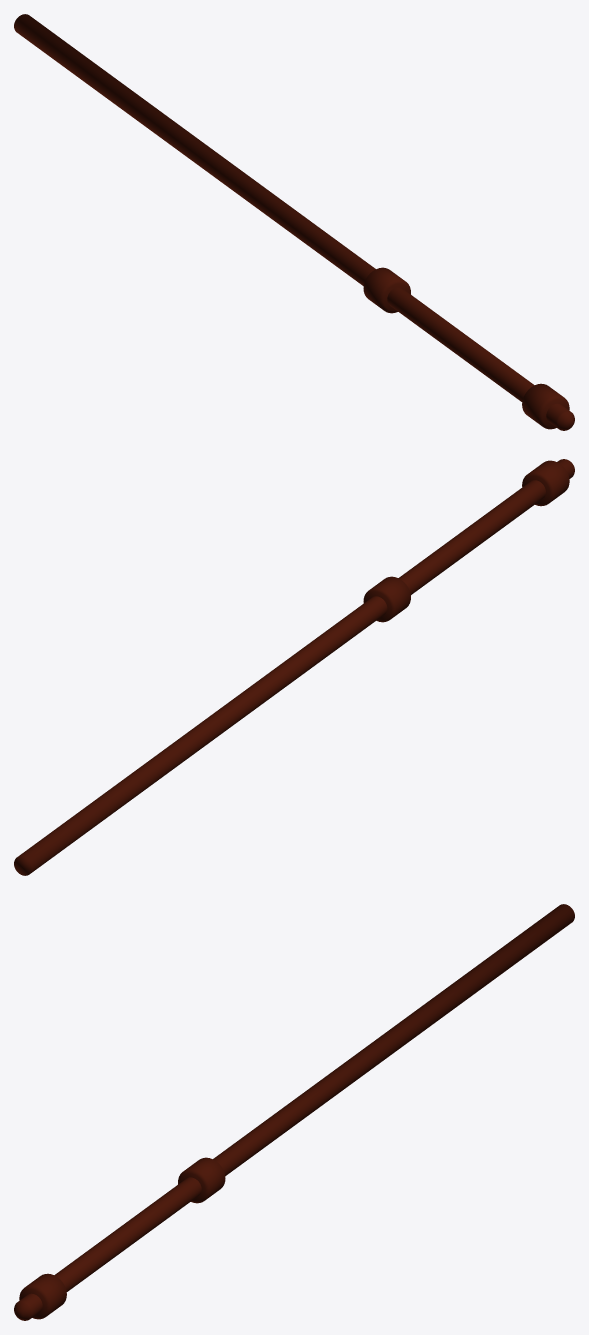
Rendered from gltf.gltf.
3 views of the same model, one above another, from view 1: azimuth 30°, elevation 25°; view 2: azimuth 150°, elevation 25°; view 3: azimuth 330°, elevation 25° (orthographic).
Bounding box in the file's own units: 2.02 × 2.02 × 60.59.
